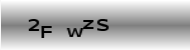2: (27, 18, 40, 31)
F: (39, 25, 52, 38)
S: (95, 18, 109, 31)
w: (65, 27, 83, 37)
z: (82, 18, 94, 29)
